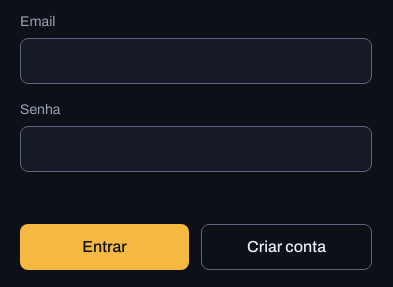
it: EntrarForm › desabilita os dois botões enquanto envia
Type "ana@exemplo.com" into the field labelled "Email" at (196, 61), box [20,38,372,84]
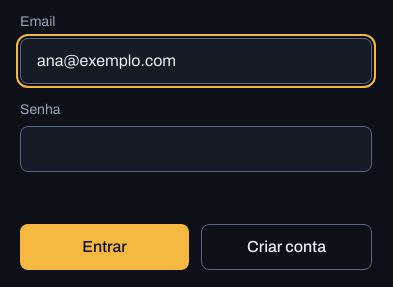
Type "segredo123" into the password field labelled "Senha" at (196, 149), box [20,126,372,172]
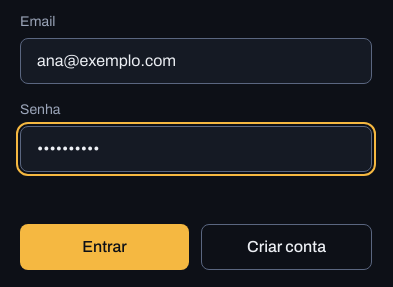
Click the button "Entrar" at (104, 247), box [20,224,189,270]
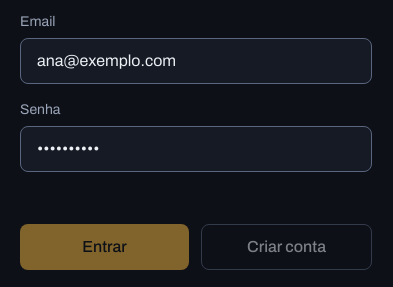
Expected: the button "Entrar" is disabled, [20,224,189,270]
Expected: the button "Criar conta" is disabled, [201,224,372,270]
